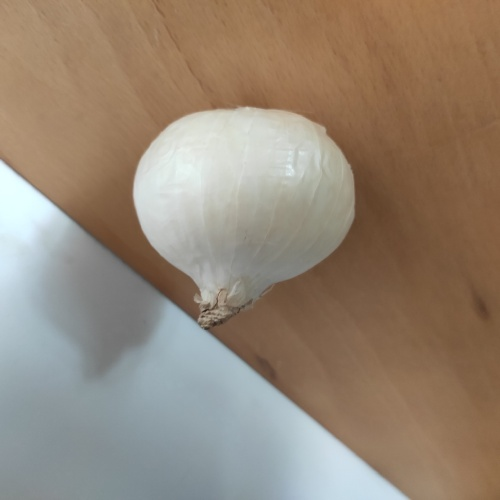cipolla: (128, 102, 361, 339)
